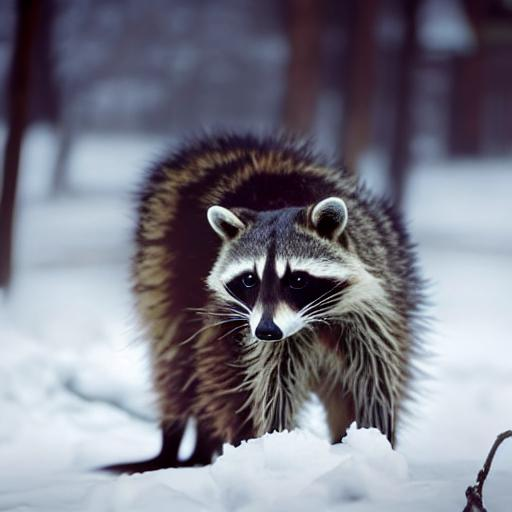raccoon: (112, 123, 445, 436)
